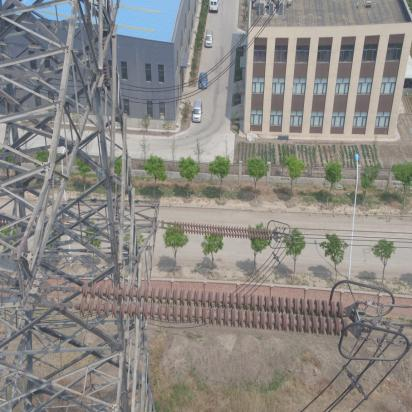insulator: (48, 279, 356, 339), (166, 219, 275, 244)
